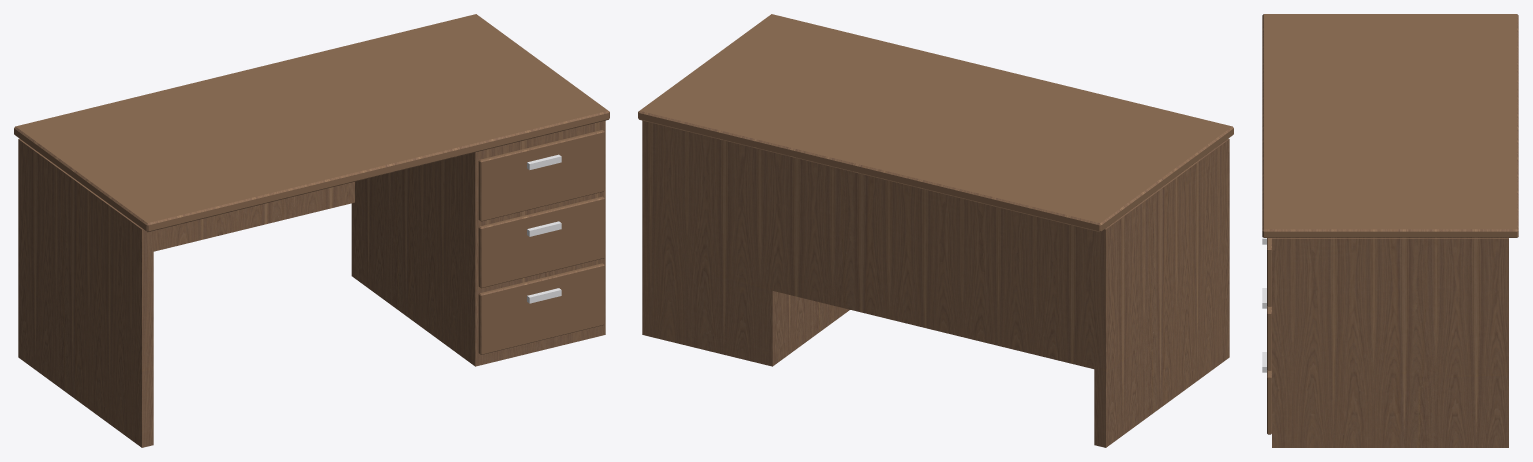
File: executive_desk.glb
3 views of the same model, side by side, from view 1: azimuth 30°, elevation 25°; view 2: azimuth 150°, elevation 25°; view 3: azimuth 270°, elevation 25° (orthographic). The views are drawn at different scales.
Visible parts, largest first — view 1: executive_desk; view 2: executive_desk; view 3: executive_desk.
Boxes of the visible parts, box(x1,y1,x2,y2) form: executive_desk: box(14, 14, 609, 447); executive_desk: box(638, 14, 1233, 447); executive_desk: box(1262, 14, 1518, 447).
Size of the model in its own units: 1.6 by 0.75 by 0.8.
2 materials, 1 textured.
